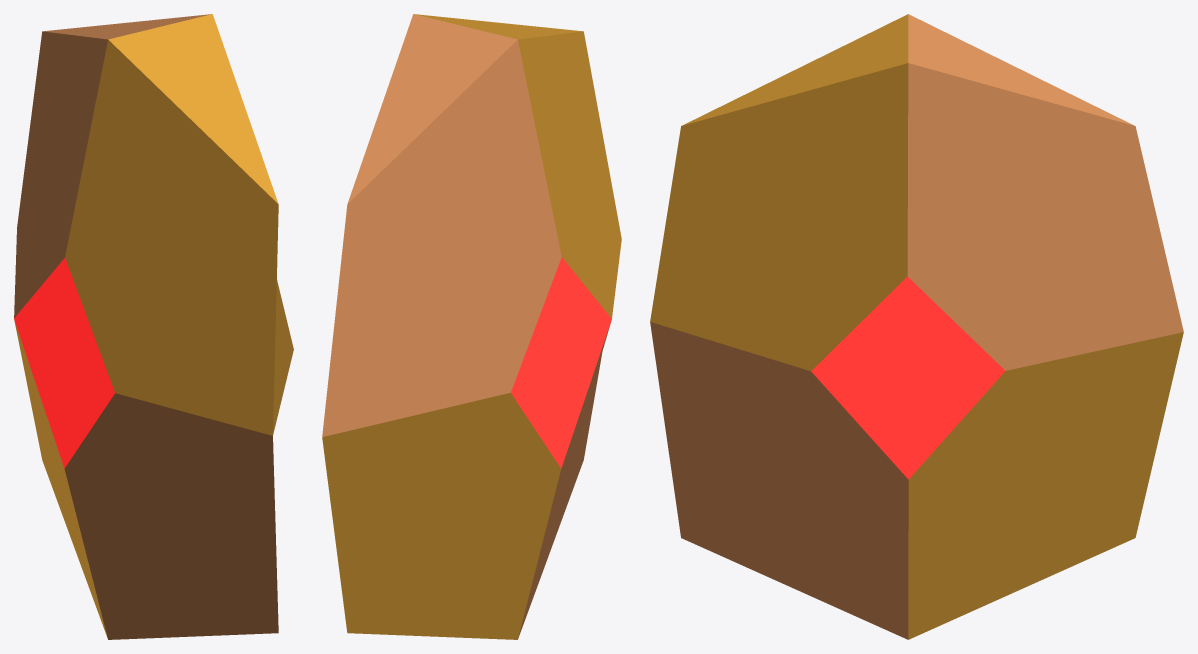
The model's file is Coin.glb.
The picture shows the model from 3 angles, left to right: view 1: azimuth 30°, elevation 25°; view 2: azimuth 150°, elevation 25°; view 3: azimuth 270°, elevation 25°; orthographic projection. The views are drawn at different scales.
Parts seen in each view (by area): view 1: Cube; view 2: Cube; view 3: Cube.
Boxes of the visible parts, <box> form: Cube: <box>14,14,293,639</box>; Cube: <box>322,14,621,639</box>; Cube: <box>650,14,1183,639</box>.
Bounding box in the file's own units: 0.5559 × 1.78 × 1.5.
